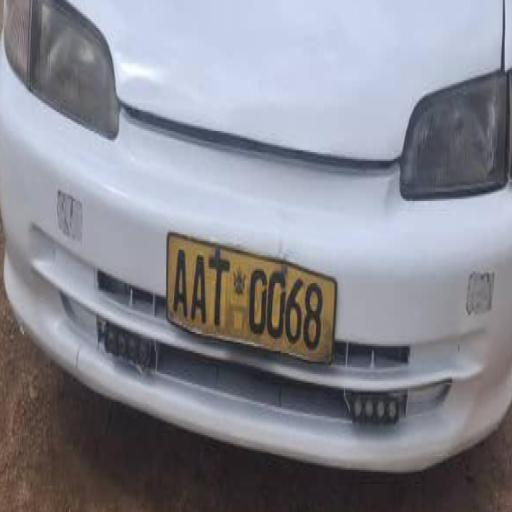number-plates: (168, 224, 324, 349)
